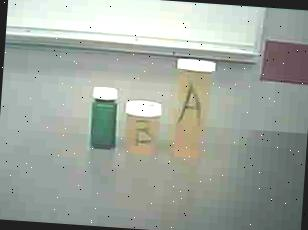Bottle A: (167, 48, 221, 164)
Bottle B: (120, 96, 164, 157)
Bottle C: (82, 80, 122, 158)
